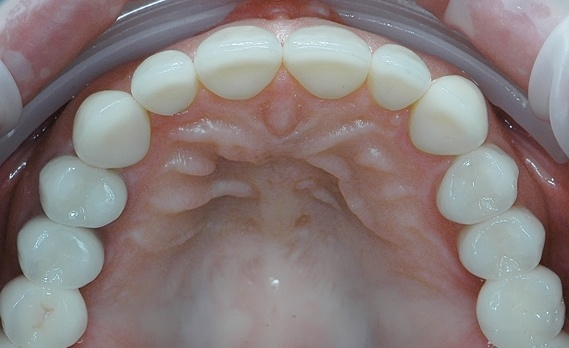UL1BC_healthy: (437, 148, 520, 221)
UL1M_healthy: (476, 274, 564, 342)
UL2BC_healthy: (456, 214, 545, 275)
ULCI_healthy: (283, 26, 370, 99)
ULC_healthy: (409, 79, 490, 151)
ULLI_healthy: (369, 43, 429, 107)
UR1BC_healthy: (36, 157, 132, 224)
UR1M_healthy: (1, 282, 89, 345)
UR2BC_healthy: (15, 220, 110, 285)
URCI_healthy: (191, 28, 284, 96)
URC_healthy: (71, 93, 151, 167)
URLI_healthy: (128, 48, 197, 110)
